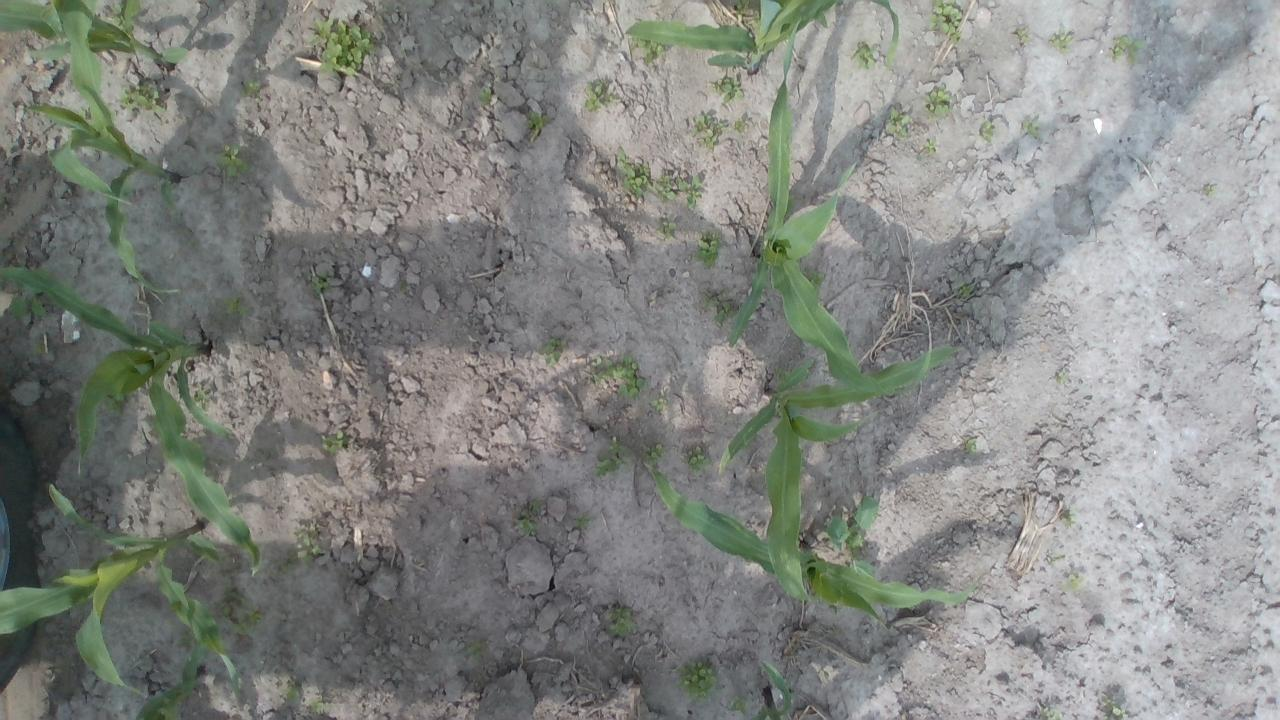Maize: (0, 254, 262, 576), (720, 340, 964, 610), (729, 16, 896, 404), (642, 452, 976, 631), (0, 482, 244, 704), (21, 0, 184, 300), (623, 0, 901, 73), (0, 0, 191, 70), (134, 640, 208, 720), (751, 653, 793, 720)
Weeds: (825, 494, 876, 580), (310, 17, 375, 78), (590, 353, 650, 401), (8, 266, 52, 319), (676, 658, 719, 706), (614, 144, 653, 196), (118, 82, 166, 117), (927, 0, 963, 45), (700, 286, 740, 322), (691, 112, 728, 149), (594, 436, 628, 476), (694, 230, 724, 269), (920, 84, 954, 118), (294, 522, 322, 563), (216, 144, 248, 178), (233, 604, 264, 638), (1109, 36, 1144, 66), (583, 79, 616, 110), (629, 36, 665, 64), (1097, 690, 1130, 720), (710, 75, 744, 104), (609, 604, 638, 638), (682, 445, 712, 476), (732, 0, 762, 29), (678, 174, 702, 210), (320, 429, 350, 456), (219, 586, 245, 616), (539, 340, 569, 366), (853, 40, 883, 66), (886, 107, 912, 137), (1048, 28, 1074, 56), (222, 292, 251, 316), (105, 391, 131, 415), (804, 268, 826, 296), (112, 1, 130, 35), (192, 382, 212, 412), (655, 173, 675, 203), (643, 442, 667, 467), (726, 693, 751, 716), (515, 515, 540, 538), (239, 76, 261, 100), (313, 269, 333, 294), (283, 680, 303, 703), (524, 110, 548, 129), (276, 554, 298, 574), (656, 218, 676, 240), (951, 279, 974, 298), (1061, 573, 1085, 591), (1036, 706, 1066, 720), (516, 501, 542, 517), (1062, 503, 1078, 528), (465, 640, 485, 660), (570, 512, 592, 530), (978, 116, 994, 140), (960, 436, 980, 455), (476, 86, 493, 106), (309, 696, 327, 714), (1022, 119, 1040, 137), (75, 106, 92, 124), (31, 338, 47, 356), (1016, 26, 1030, 45), (924, 137, 938, 156), (175, 634, 192, 648), (652, 396, 668, 410), (734, 115, 746, 132), (774, 365, 788, 378), (1205, 184, 1217, 196), (1056, 371, 1066, 385), (186, 237, 198, 248), (1048, 554, 1062, 562)
